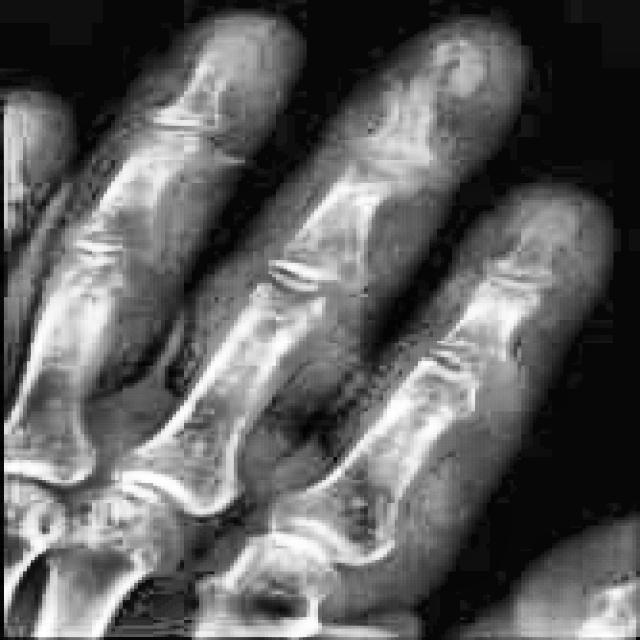fracture: (402, 55, 464, 112)
